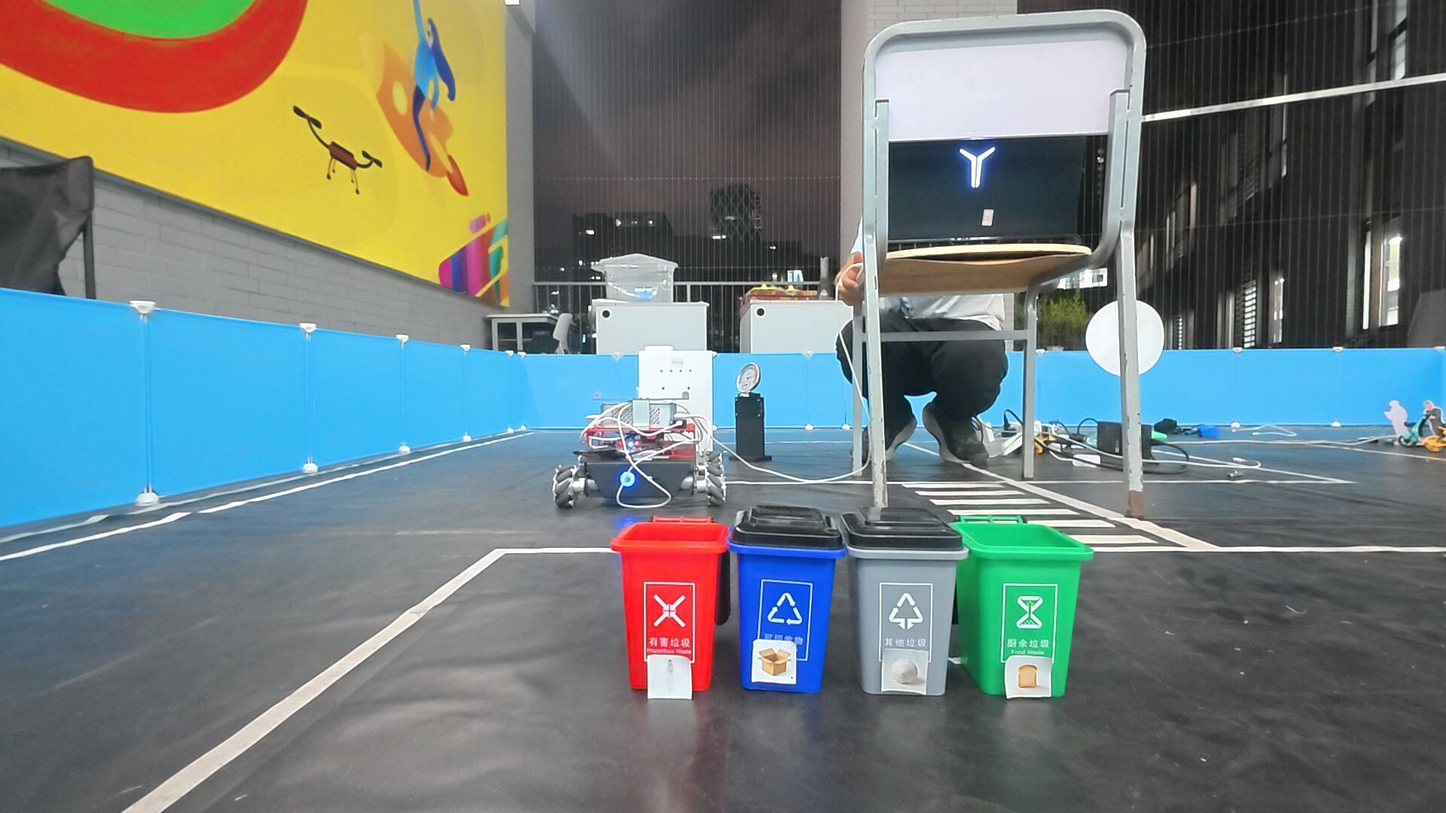food_trash: (1005, 659, 1048, 694)
hazardous_trash: (650, 656, 690, 696)
other_trash: (885, 650, 923, 687)
recyclable_trash: (757, 640, 789, 679)
